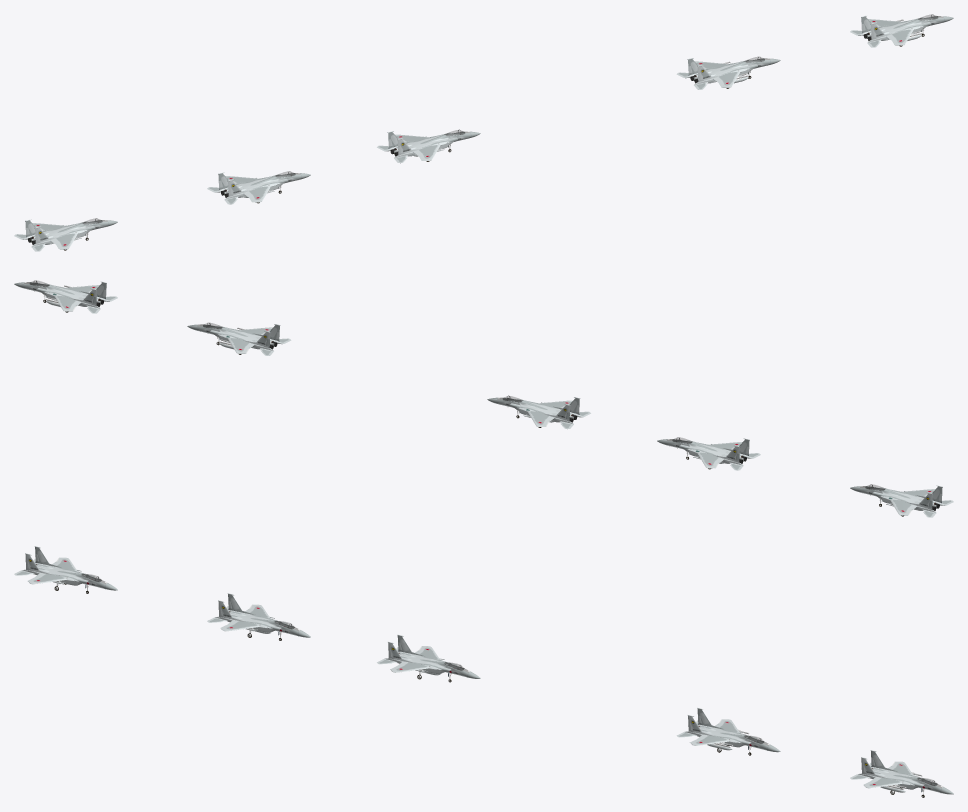
Rendered from f15jft1.glb.
3 renders of one model, top to bottom at view 1: azimuth 30°, elevation 25°; view 2: azimuth 150°, elevation 25°; view 3: azimuth 330°, elevation 25°, orthographic.
Parts seen in each view (by area): view 1: fuselage.004, fuselage.002, fuselage.003, fuselage.005, fuselage.001; view 2: fuselage.004, fuselage.002, fuselage.003, fuselage.005, fuselage.001; view 3: fuselage.004, fuselage.003, fuselage.002, fuselage.005, fuselage.001.
Boxes of the visible parts, x1,y1,x2,y2 form: fuselage.004: (14, 218, 117, 251); fuselage.002: (377, 129, 480, 163); fuselage.003: (207, 171, 310, 204); fuselage.005: (850, 14, 953, 47); fuselage.001: (676, 56, 780, 89); fuselage.004: (850, 484, 953, 517); fuselage.002: (487, 395, 590, 429); fuselage.003: (657, 437, 760, 470); fuselage.005: (14, 280, 117, 313); fuselage.001: (187, 322, 291, 355); fuselage.004: (14, 546, 117, 593); fuselage.003: (207, 593, 310, 640); fuselage.002: (377, 634, 480, 682); fuselage.005: (850, 750, 953, 797); fuselage.001: (676, 707, 780, 755).
Size of the model in its own units: 176 by 5.49 by 11.7.
Materials: 31 (2 with a texture image).
